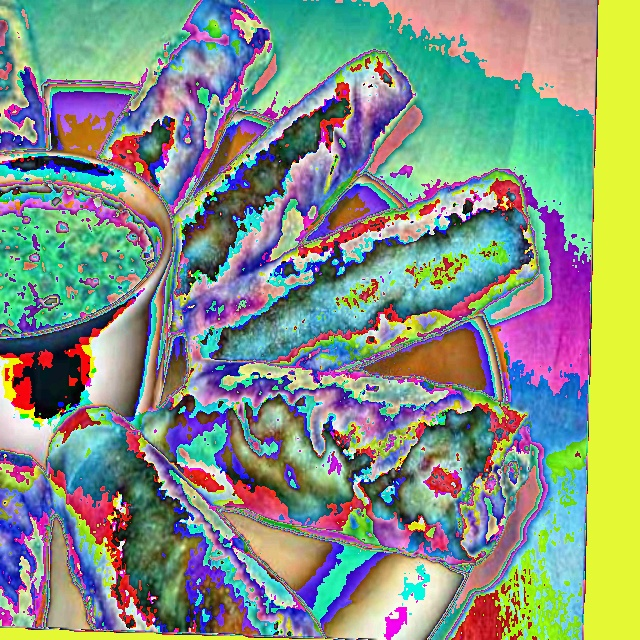background: (0, 0, 542, 639), (0, 157, 157, 336), (0, 0, 52, 154)
